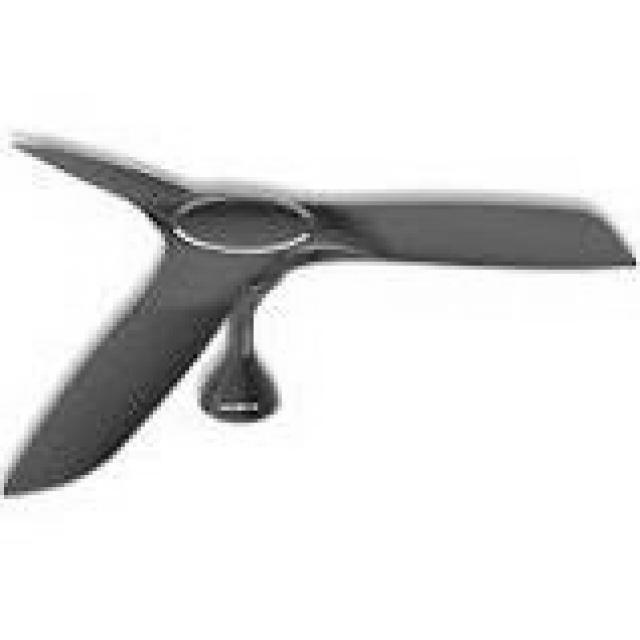fan: (2, 142, 636, 500)
